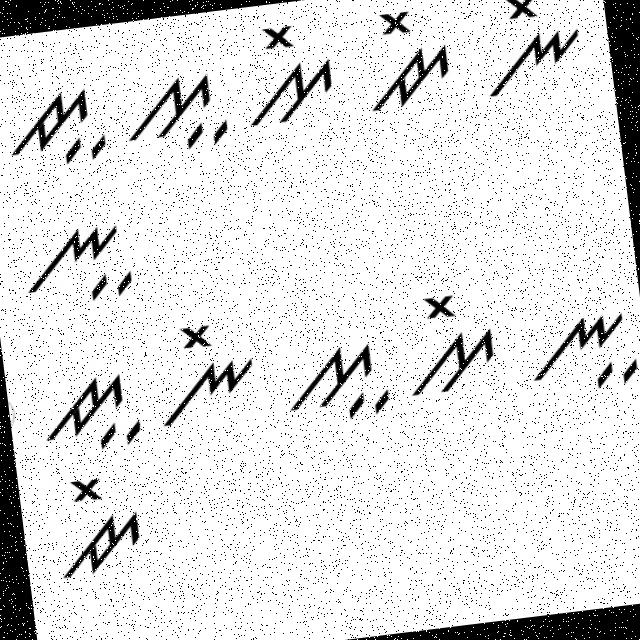jah: (27, 359, 148, 467), (1, 74, 112, 178)
jo: (46, 467, 152, 584), (358, 0, 461, 116)
nyah: (520, 292, 639, 401), (18, 217, 138, 316)
nyo: (152, 312, 263, 431), (477, 0, 592, 101)
sah: (278, 329, 395, 426), (120, 61, 233, 158)
so: (398, 284, 511, 406), (235, 18, 344, 132)
